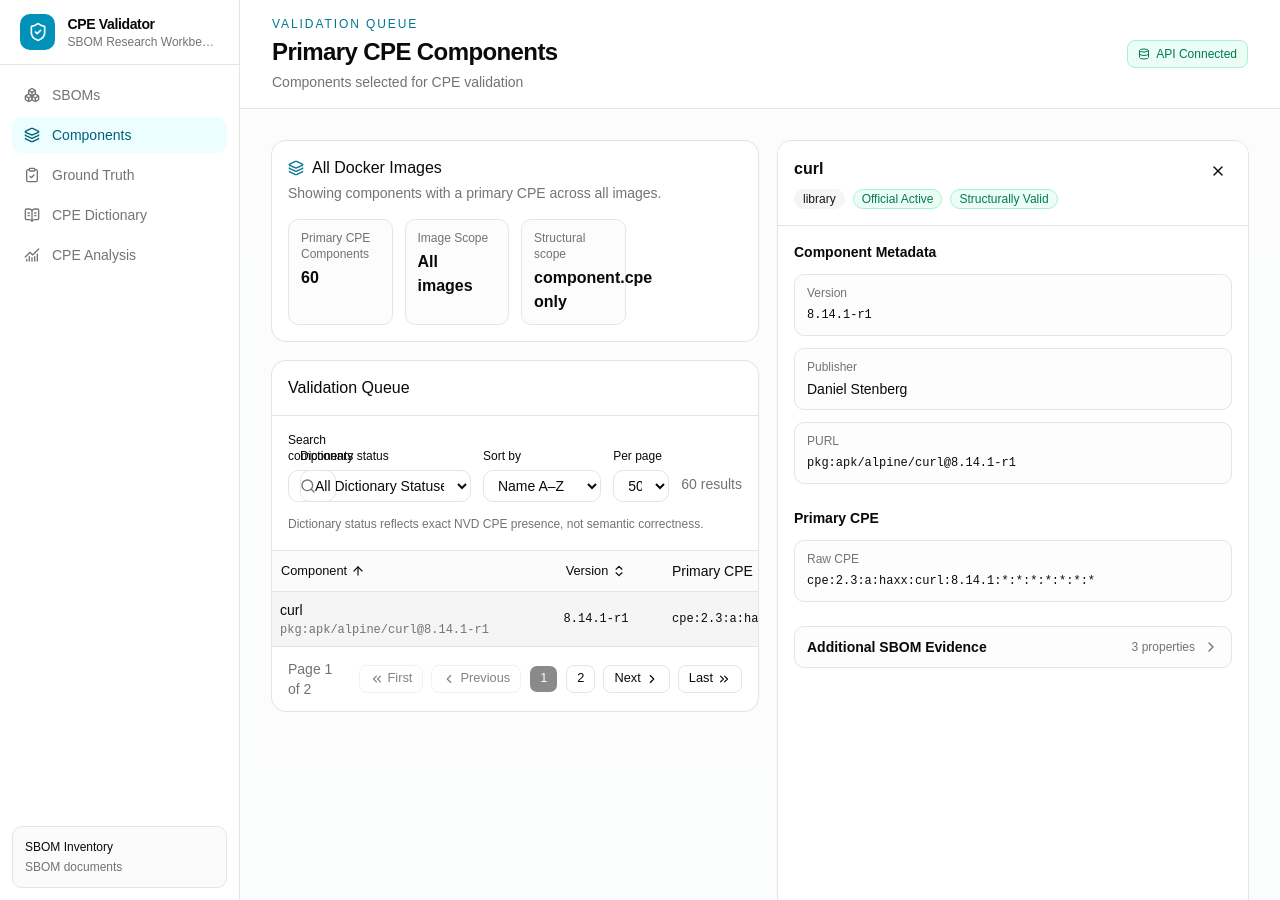
Test: Component Detail panel › keeps Additional SBOM Evidence collapsed and toggles raw properties
The width and height of the screenshot is (1280, 900).
Expected: the element showing "Additional SBOM Evidence 3 properties" is shown, [794,626,1232,668]
Expected: the heading "Additional SBOM Evidence 3 properties" is shown, [807,639,1219,655]
Click the text "Additional SBOM Evidence" at point(897, 647), box [807,637,987,657]
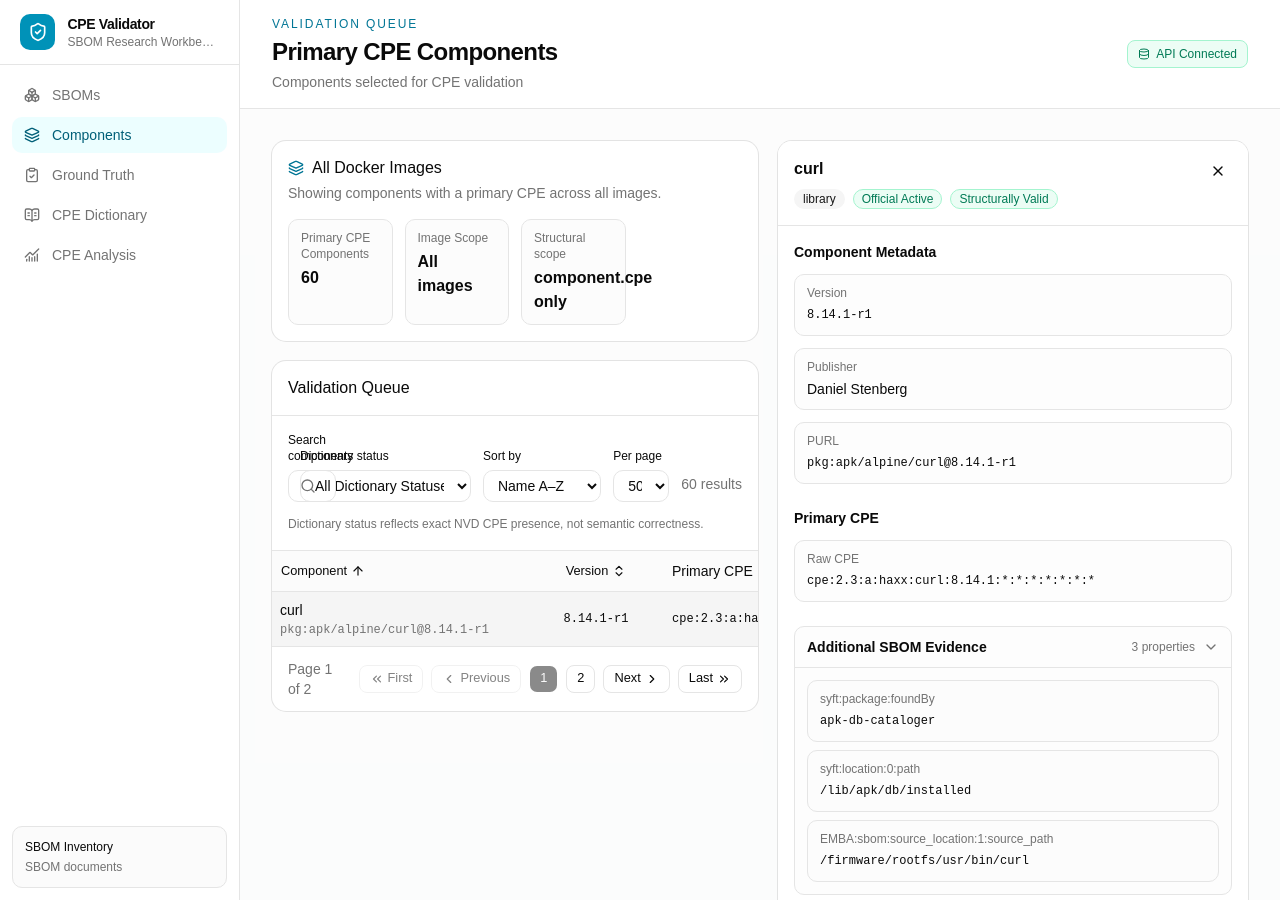
Expected: the text "syft:package:foundBy" is shown, [820,691,935,707]
Expected: the text "syft:location:0:path" is shown, [820,761,920,777]
Expected: the text "EMBA:sbom:source_location:1:source_path" is shown, [820,831,1054,847]
Click the text "Additional SBOM Evidence" at point(897, 647), box [807,637,987,657]
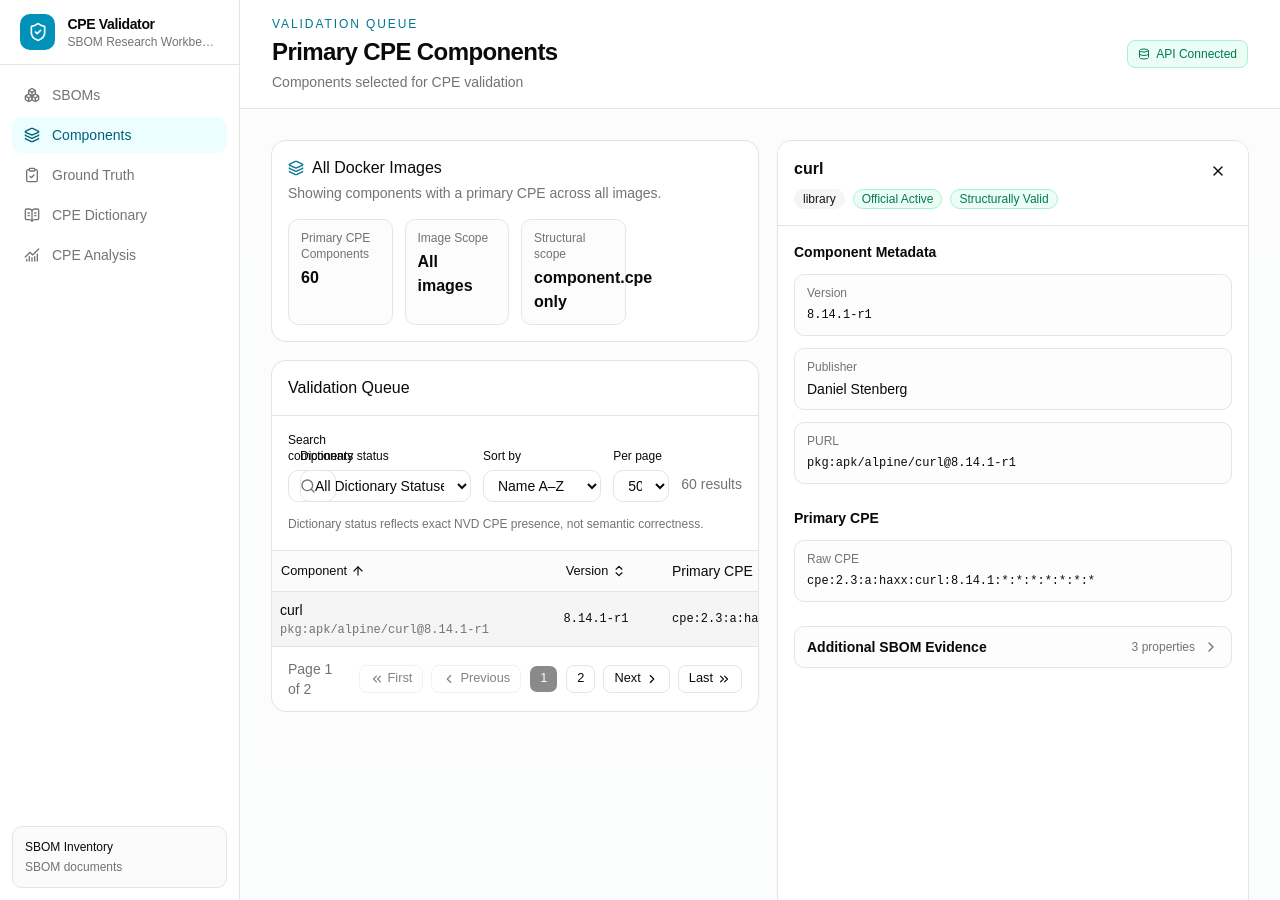
Expected: the text "/firmware/rootfs/usr/bin/curl" is gone
